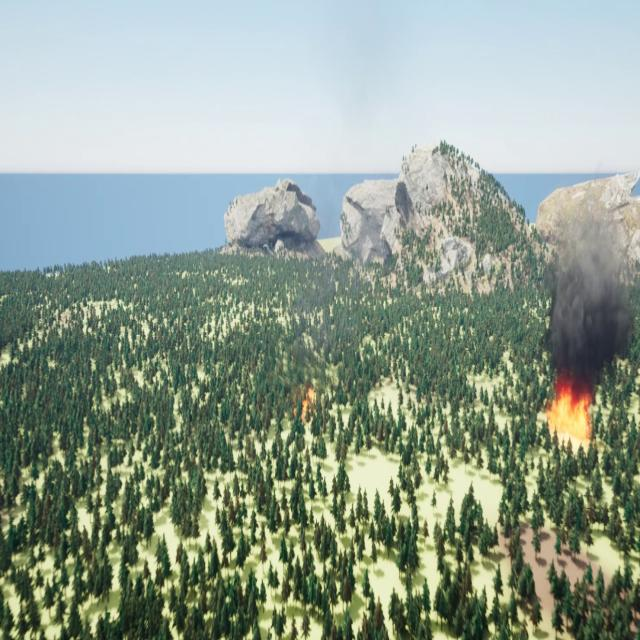fire: (540, 375, 596, 435), (291, 386, 317, 418)
smoke: (550, 214, 638, 384)
